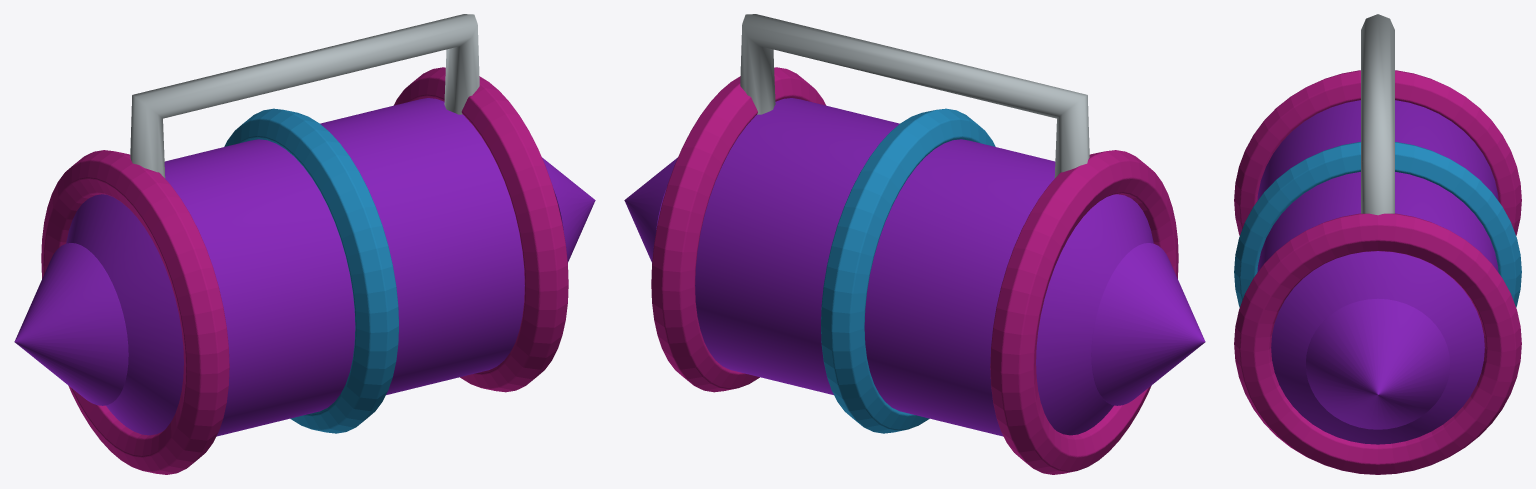
3 views of the same model, side by side, from view 1: azimuth 30°, elevation 25°; view 2: azimuth 150°, elevation 25°; view 3: azimuth 270°, elevation 25° (orthographic). The views are drawn at different scales.
Parts seen in each view (by area): view 1: TI077 / horizontal sealed barrel, TI077 / broad coloured barrel collar, TI077 / broad coloured barrel collar.001, TI077 / broad coloured barrel collar.002, TI077 / arched carry handle, TI077 / sealed pointed end, TI077 / sealed pointed end.001; view 2: TI077 / horizontal sealed barrel, TI077 / broad coloured barrel collar, TI077 / broad coloured barrel collar.001, TI077 / broad coloured barrel collar.002, TI077 / arched carry handle, TI077 / sealed pointed end, TI077 / sealed pointed end.001; view 3: TI077 / horizontal sealed barrel, TI077 / broad coloured barrel collar.002, TI077 / sealed pointed end.001, TI077 / broad coloured barrel collar, TI077 / broad coloured barrel collar.001, TI077 / arched carry handle.
Part boxes in pixels (x1=…): TI077 / horizontal sealed barrel: x1=66, y1=98, x2=524, y2=436; TI077 / broad coloured barrel collar: x1=41, y1=150, x2=229, y2=474; TI077 / broad coloured barrel collar.001: x1=224, y1=108, x2=398, y2=433; TI077 / broad coloured barrel collar.002: x1=394, y1=67, x2=568, y2=392; TI077 / arched carry handle: x1=130, y1=14, x2=479, y2=178; TI077 / sealed pointed end: x1=14, y1=243, x2=128, y2=405; TI077 / sealed pointed end.001: x1=542, y1=157, x2=595, y2=262; TI077 / horizontal sealed barrel: x1=695, y1=98, x2=1153, y2=436; TI077 / broad coloured barrel collar: x1=990, y1=150, x2=1178, y2=474; TI077 / broad coloured barrel collar.001: x1=821, y1=108, x2=995, y2=433; TI077 / broad coloured barrel collar.002: x1=651, y1=67, x2=825, y2=392; TI077 / arched carry handle: x1=740, y1=14, x2=1089, y2=178; TI077 / sealed pointed end: x1=1091, y1=243, x2=1205, y2=405; TI077 / sealed pointed end.001: x1=624, y1=157, x2=677, y2=262; TI077 / horizontal sealed barrel: x1=1257, y1=100, x2=1498, y2=444; TI077 / broad coloured barrel collar.002: x1=1234, y1=213, x2=1521, y2=474; TI077 / sealed pointed end.001: x1=1305, y1=298, x2=1450, y2=429; TI077 / broad coloured barrel collar: x1=1234, y1=70, x2=1521, y2=235; TI077 / broad coloured barrel collar.001: x1=1234, y1=142, x2=1521, y2=307; TI077 / arched carry handle: x1=1361, y1=14, x2=1394, y2=215.
Bounding box in the file's own units: 2.4 × 1.44 × 1.19.
